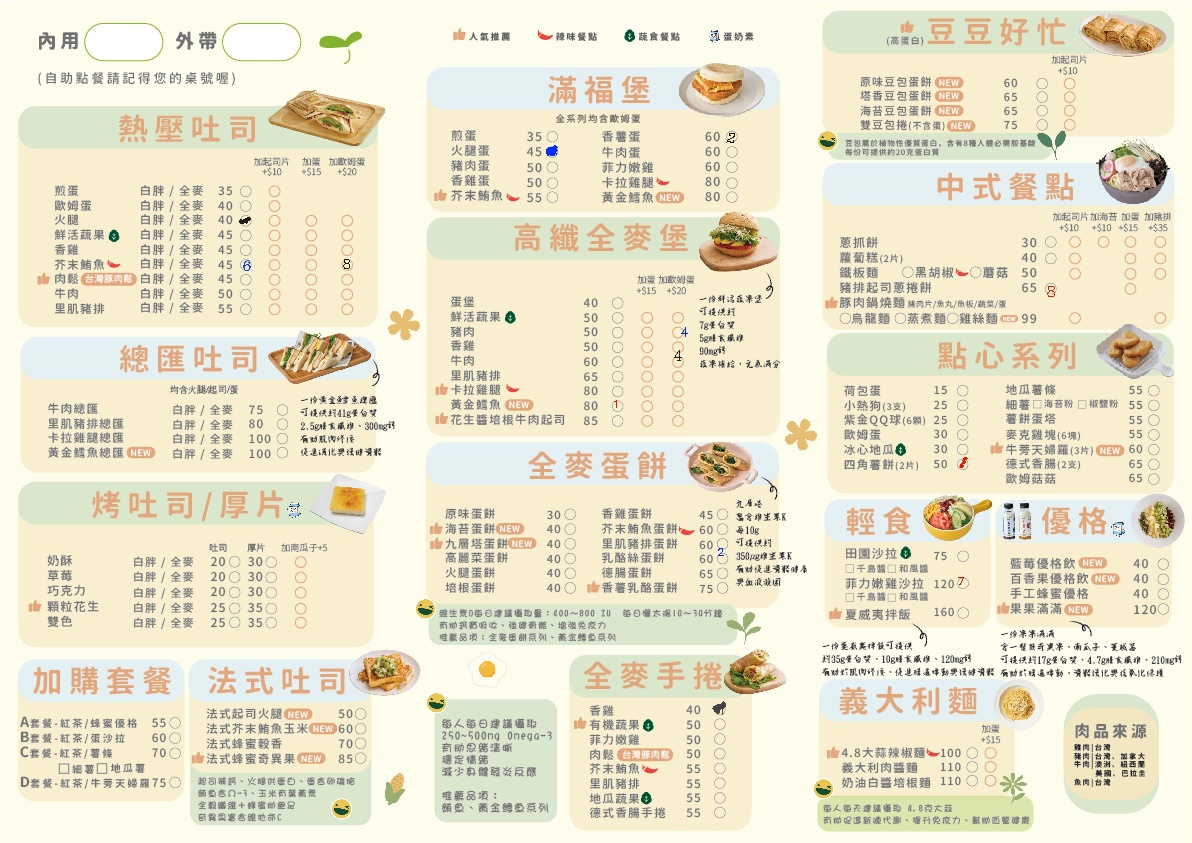marked_circle: (547, 145, 557, 156)
marked_number_1: (611, 400, 621, 411)
marked_number_2: (726, 132, 736, 143), (717, 553, 727, 564)
marked_number_4: (671, 356, 681, 367), (672, 328, 682, 339)
marked_number_6: (239, 260, 249, 271)
marked_number_7: (957, 578, 967, 589)
marked_number_8: (341, 260, 351, 271), (1045, 283, 1055, 294)
marked_tick: (240, 215, 250, 226), (957, 458, 967, 469)
marked_x: (714, 703, 724, 714)
